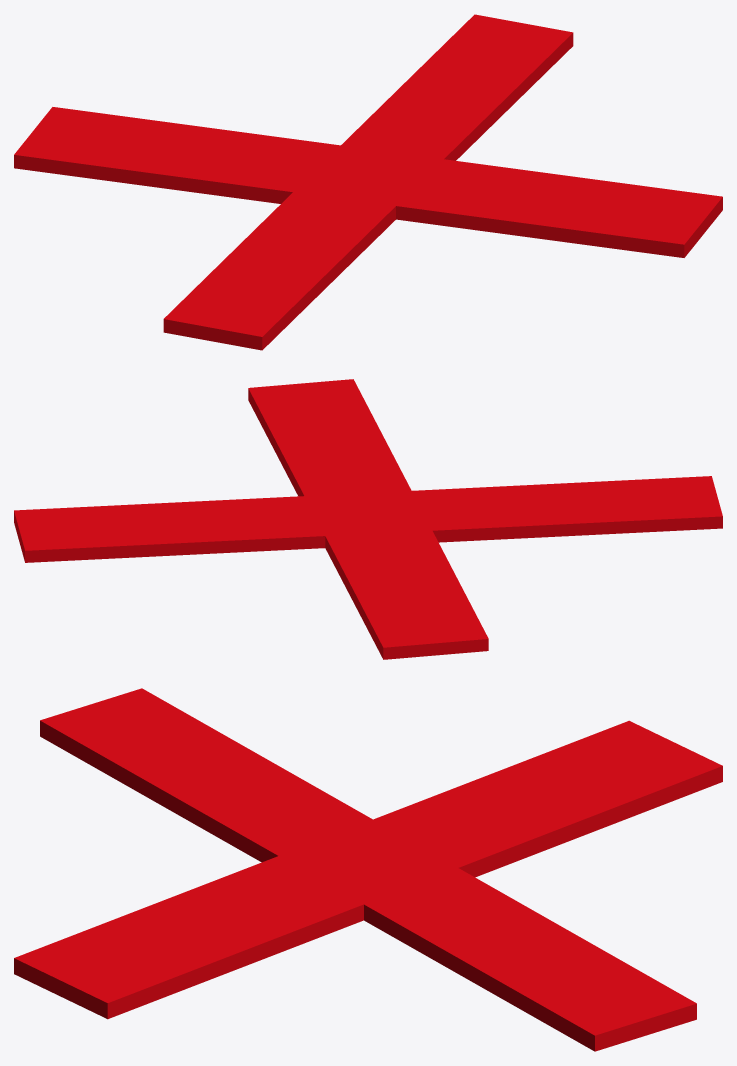
Rendered from Xmarkthespot.fbx.
3 renders of one model, top to bottom at view 1: azimuth 30°, elevation 25°; view 2: azimuth 150°, elevation 25°; view 3: azimuth 270°, elevation 25°, orthographic. The views are drawn at different scales.
Visible parts, largest first — view 1: Cube.002; view 2: Cube.002; view 3: Cube.002.
Part boxes in pixels (x1=…): Cube.002: x1=14, y1=14, x2=722, y2=350; Cube.002: x1=14, y1=379, x2=722, y2=659; Cube.002: x1=14, y1=688, x2=722, y2=1051.
Bounding box in the file's own units: 217 × 4.66 × 187.
